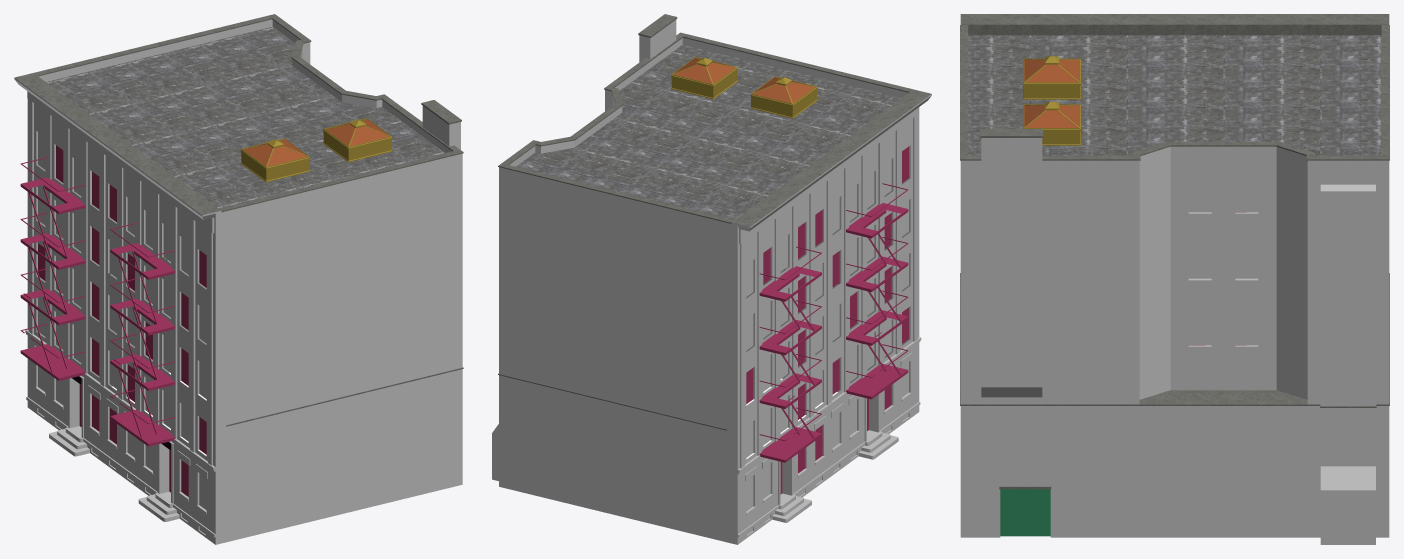
File: mcp_building_12_LOD_1.FBX
The picture shows the model from 3 angles, left to right: view 1: azimuth 30°, elevation 25°; view 2: azimuth 150°, elevation 25°; view 3: azimuth 270°, elevation 25°; orthographic projection. The views are drawn at different scales.
Parts seen in each view (by area): view 1: mcp_building_12_walls, mcp_building_12_roof, mcp_building_12, mcp_building_12_props_02, mcp_building_12_concrete_01, mcp_building_12_concrete_02, mcp_building_12_props_01; view 2: mcp_building_12_walls, mcp_building_12_roof, mcp_building_12, mcp_building_12_props_02, mcp_building_12_concrete_01, mcp_building_12_concrete_02, mcp_building_12_props_01; view 3: mcp_building_12_walls, mcp_building_12_roof, mcp_building_12, mcp_building_12_concrete_02, mcp_building_12_props_01, mcp_building_12_door.
Part boxes in pixels (<box>): mcp_building_12_walls: <box>26,19,462,542</box>; mcp_building_12_roof: <box>46,26,444,208</box>; mcp_building_12: <box>14,73,221,534</box>; mcp_building_12_props_02: <box>20,157,174,446</box>; mcp_building_12_concrete_01: <box>26,345,226,544</box>; mcp_building_12_concrete_02: <box>34,14,463,426</box>; mcp_building_12_props_01: <box>240,118,392,182</box>; mcp_building_12_walls: <box>492,20,920,542</box>; mcp_building_12_roof: <box>516,44,901,219</box>; mcp_building_12: <box>732,89,931,534</box>; mcp_building_12_props_02: <box>759,183,908,462</box>; mcp_building_12_concrete_01: <box>727,352,920,544</box>; mcp_building_12_concrete_02: <box>498,14,912,430</box>; mcp_building_12_props_01: <box>671,57,817,118</box>; mcp_building_12_walls: <box>960,138,1389,544</box>; mcp_building_12_roof: <box>968,35,1381,155</box>; mcp_building_12: <box>960,14,1389,345</box>; mcp_building_12_concrete_02: <box>960,25,1389,489</box>; mcp_building_12_props_01: <box>1023,56,1080,145</box>; mcp_building_12_door: <box>1000,489,1050,536</box>.
Size of the model in its own units: 2065 by 2437 by 2339.
